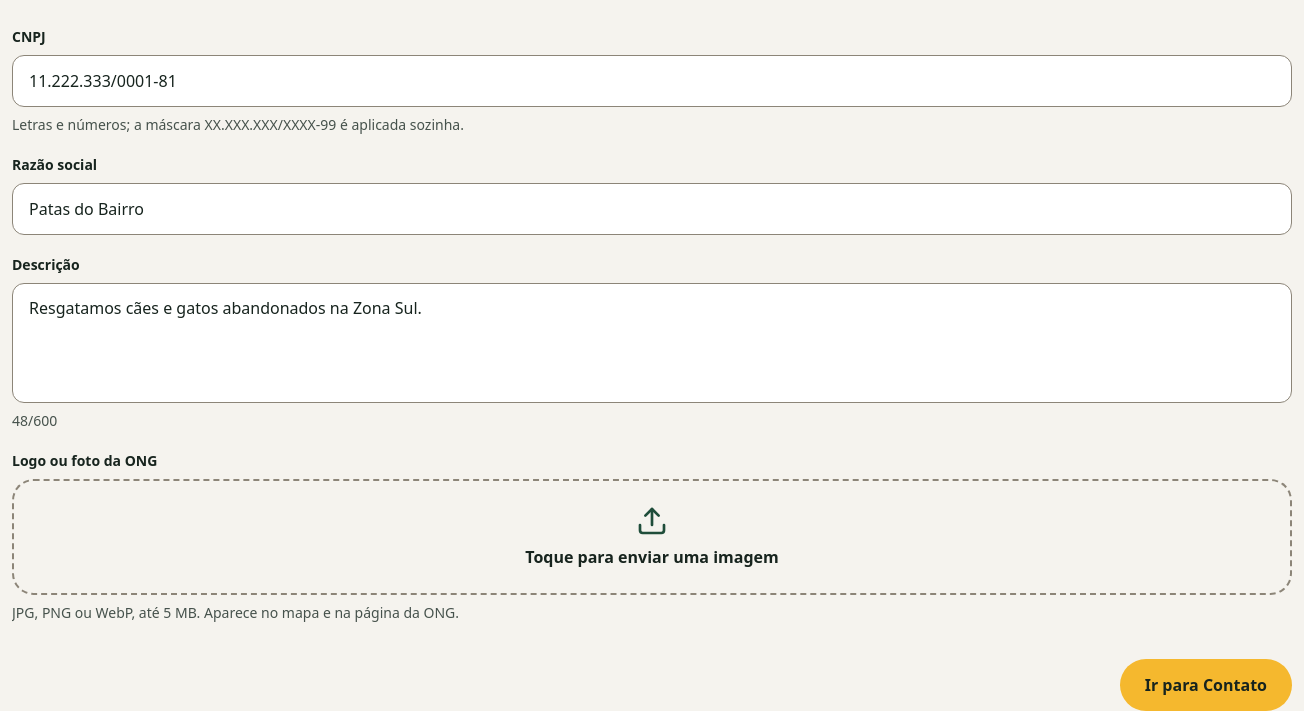
Test: StepAbout › corrigir o CNPJ apaga o erro do campo
The image size is (1304, 711).
(page scrolled)
Click the button "Ir para Contato": (1206, 685) left=1120, top=659, right=1292, bottom=710
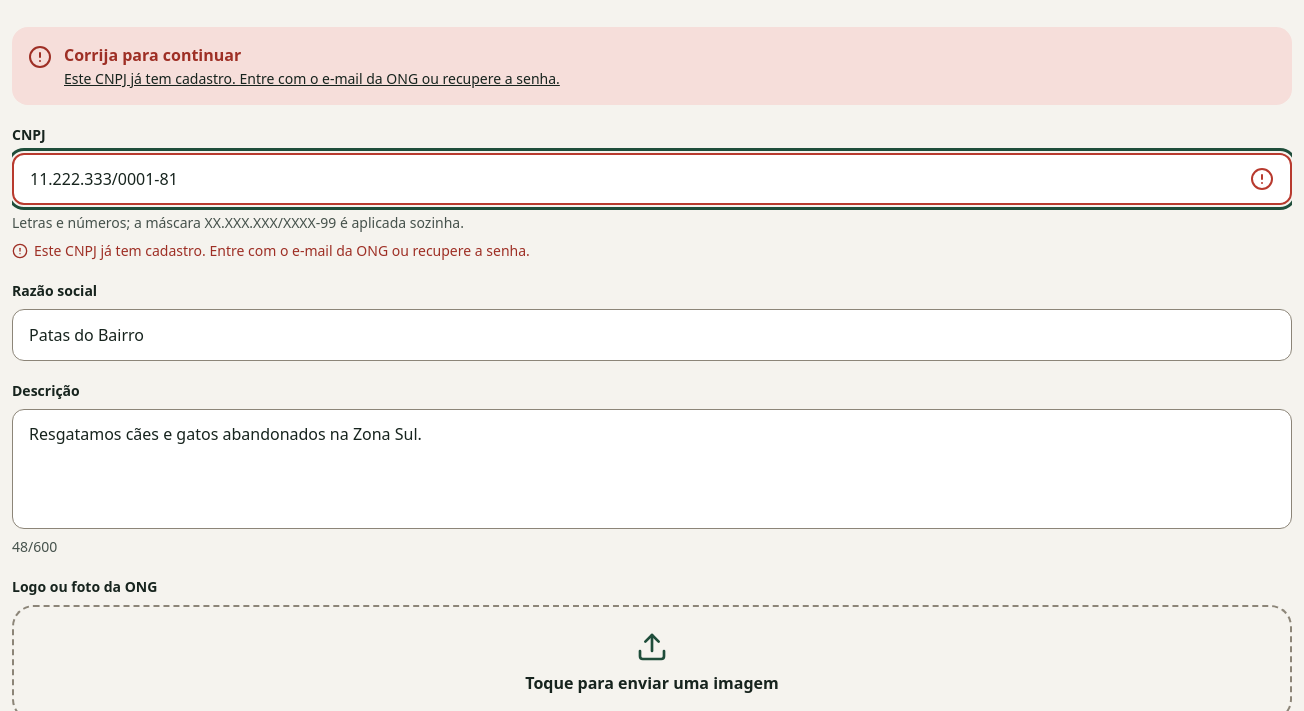
Expected: the number of links "Este CNPJ já tem cadastro. Entre com o e-mail da ONG ou recupere a senha." is 2, left=64, top=69, right=560, bottom=88; left=34, top=241, right=530, bottom=261
In the field labelled "CNPJ": (652, 179) left=12, top=153, right=1292, bottom=205, type "1"
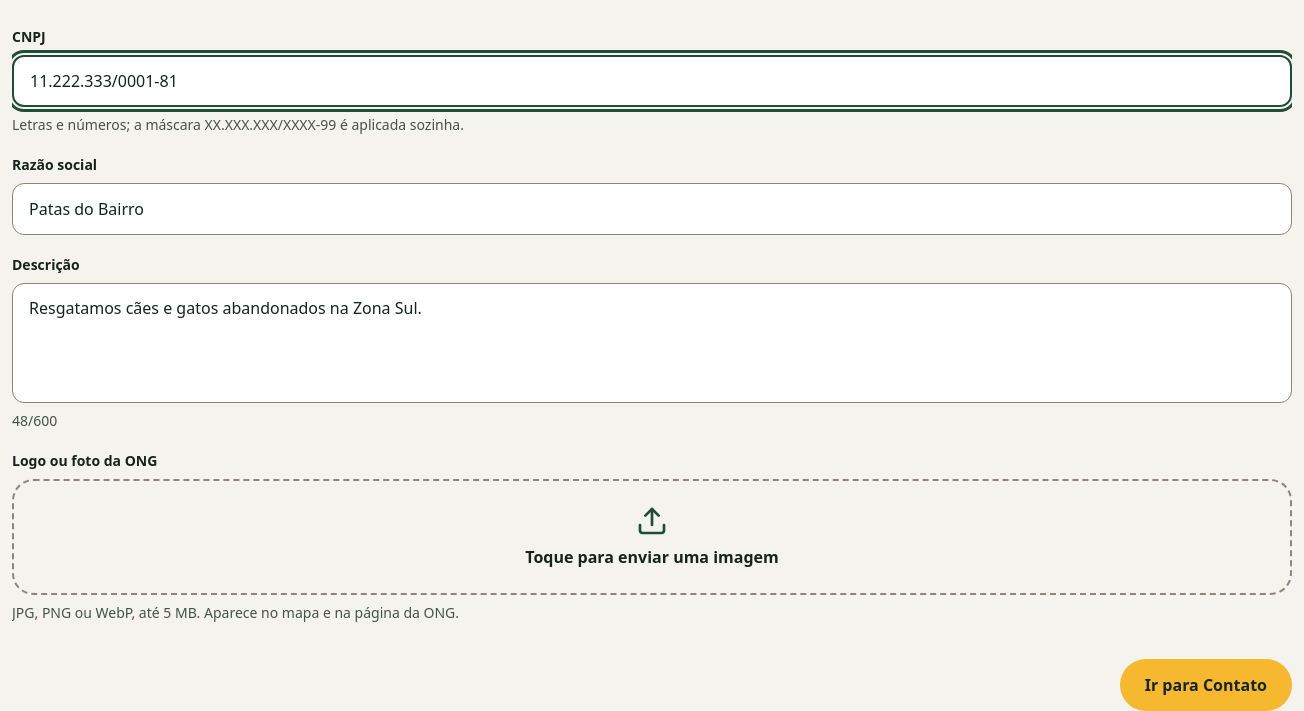
Expected: the link "Este CNPJ já tem cadastro. Entre com o e-mail da ONG ou recupere a senha." is gone
